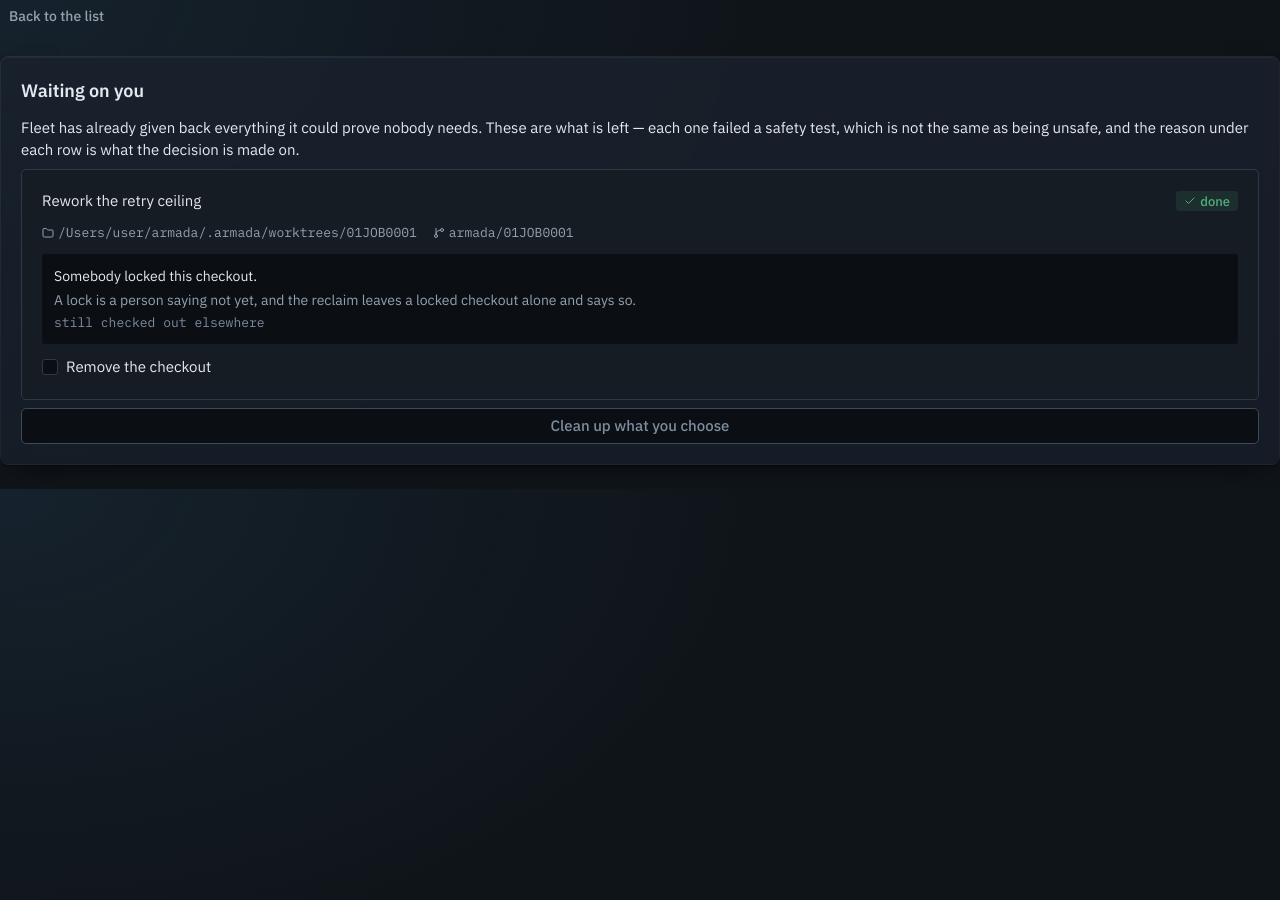
a refused checkout cancels that row's forget, in the same act
What coordinates should you click on to do the following:
click the checkbox labelled "Remove the checkout"
I would click on:
 (127, 367)
Its box is [42, 356, 211, 378].
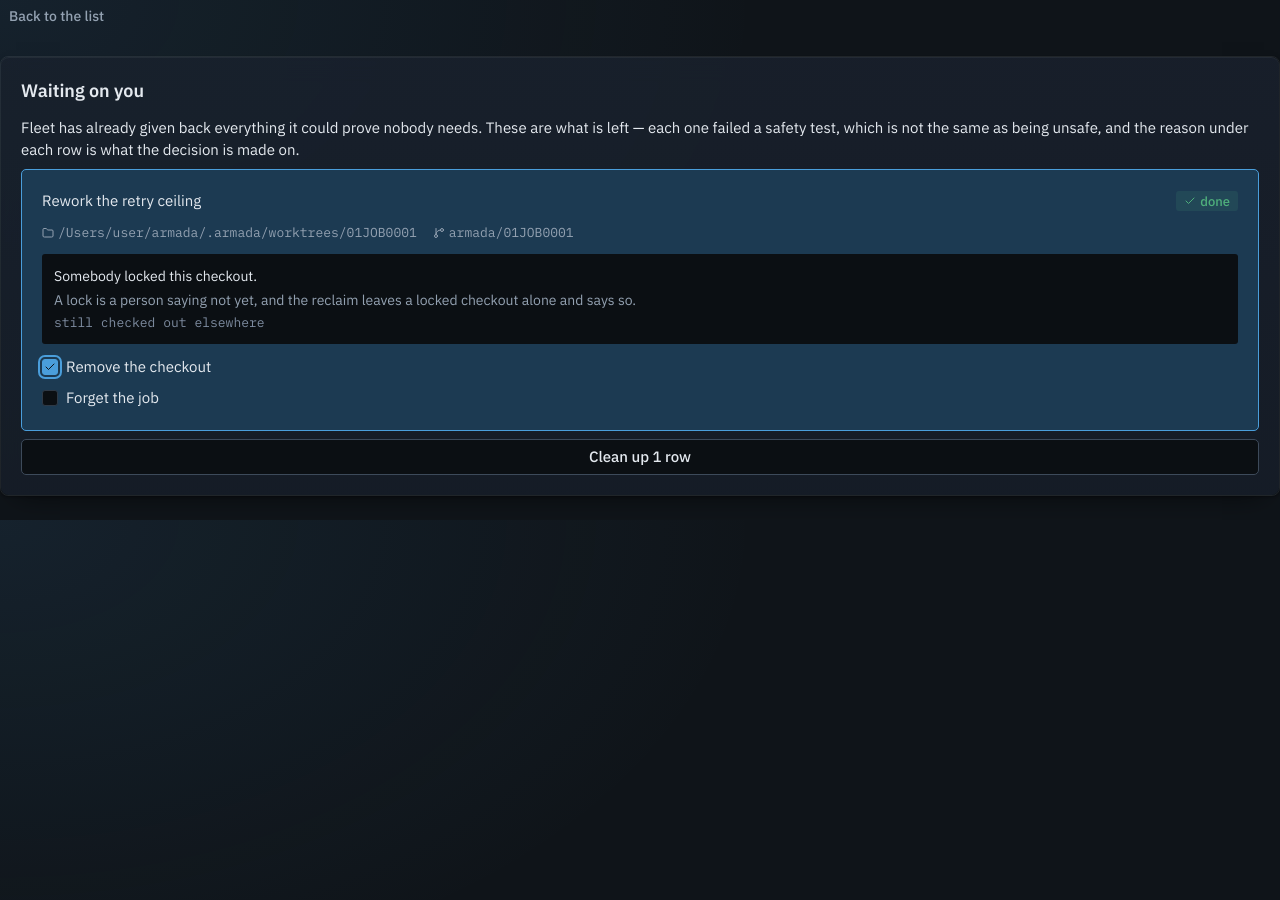
What coordinates should you click on to do the following:
click the checkbox labelled "Forget the job"
I would click on:
 (100, 398)
Its box is [42, 387, 159, 409].
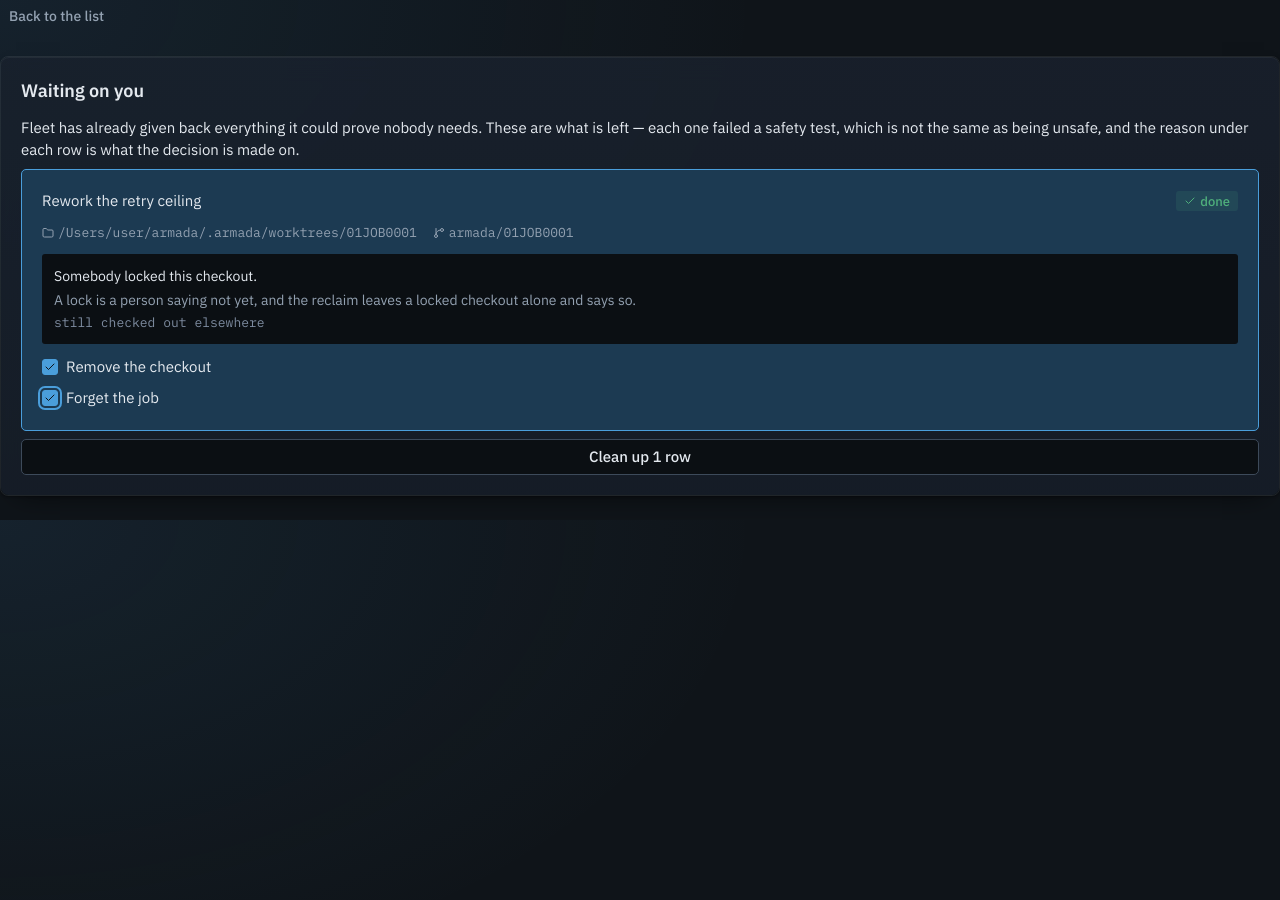
What coordinates should you click on to do the following:
click the button "Clean up 1 row"
I would click on:
 (640, 457)
Its box is [21, 439, 1259, 475].
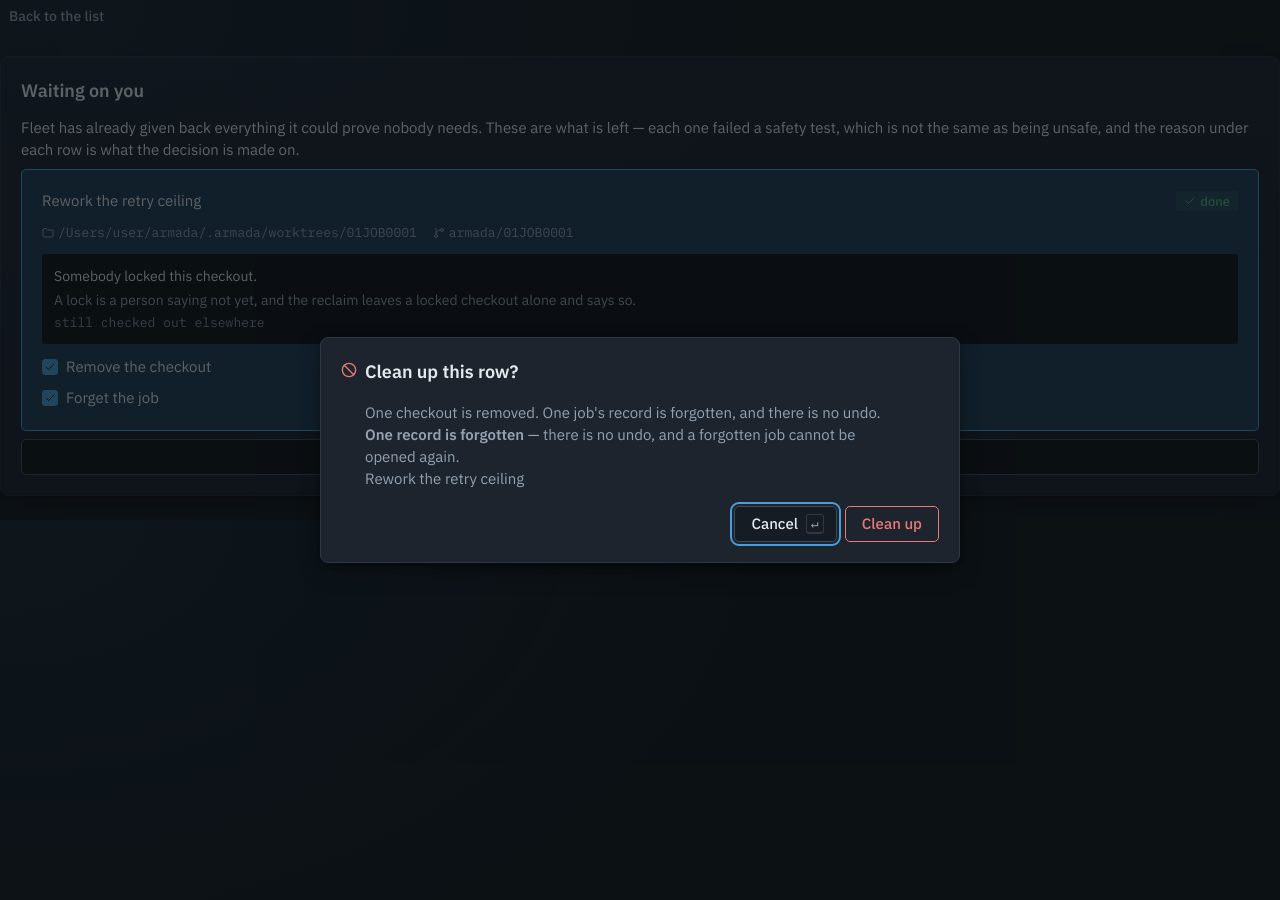
What coordinates should you click on to do the following:
click the button "Clean up"
I would click on:
 (892, 524)
Its box is [845, 506, 939, 542].
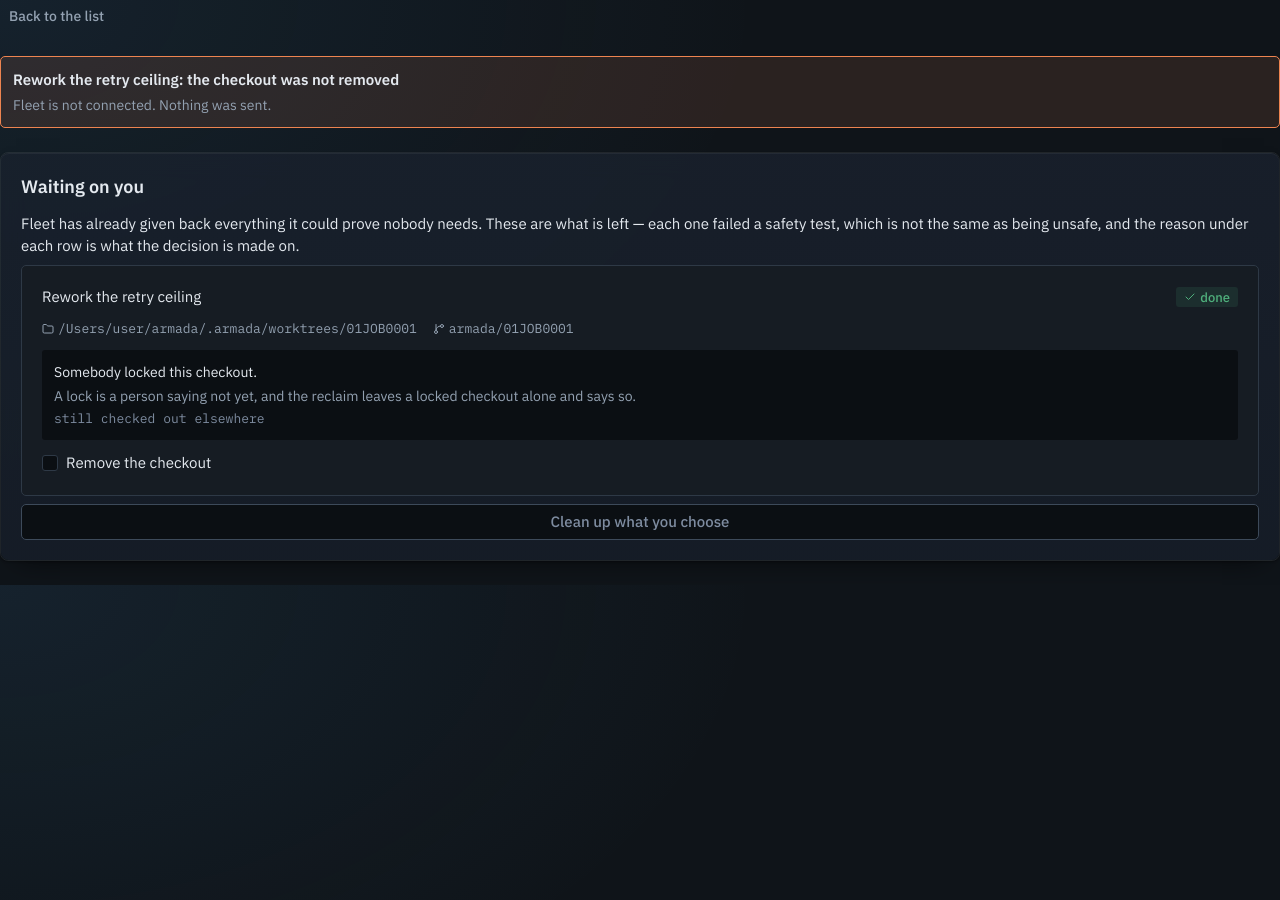
Expected: the text "Rework the retry ceiling: the checkout was not removed" is shown, [13, 70, 399, 89]
